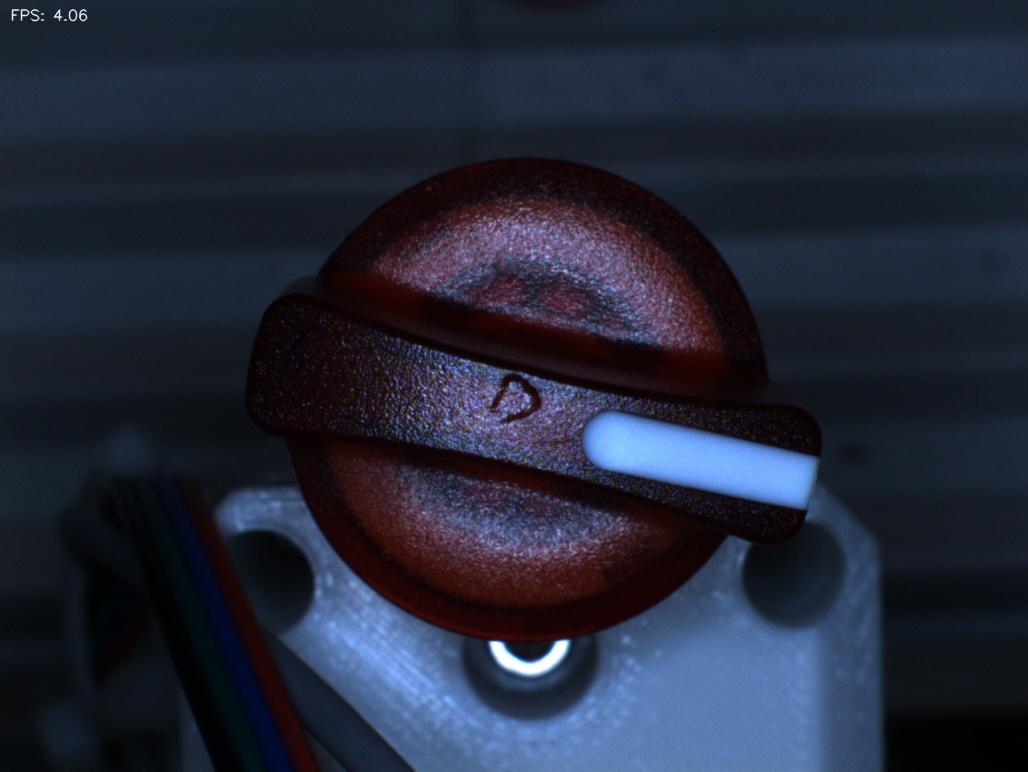Choc: (465, 353, 572, 443)
